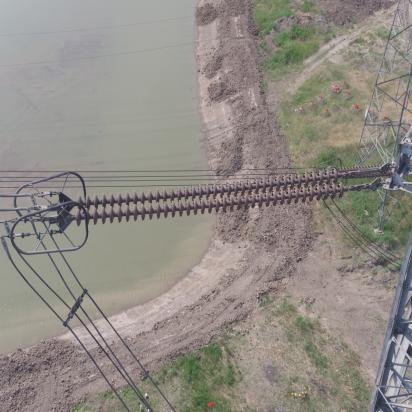insulator: (65, 166, 360, 229)
